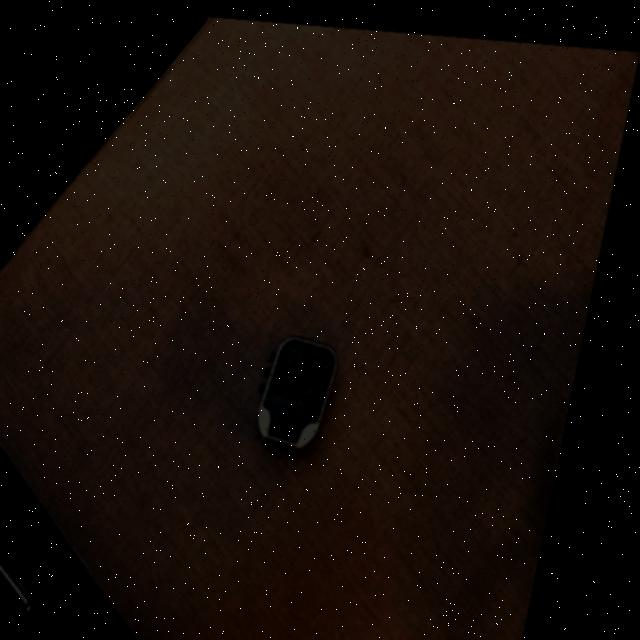adapter: (264, 327, 355, 446)
